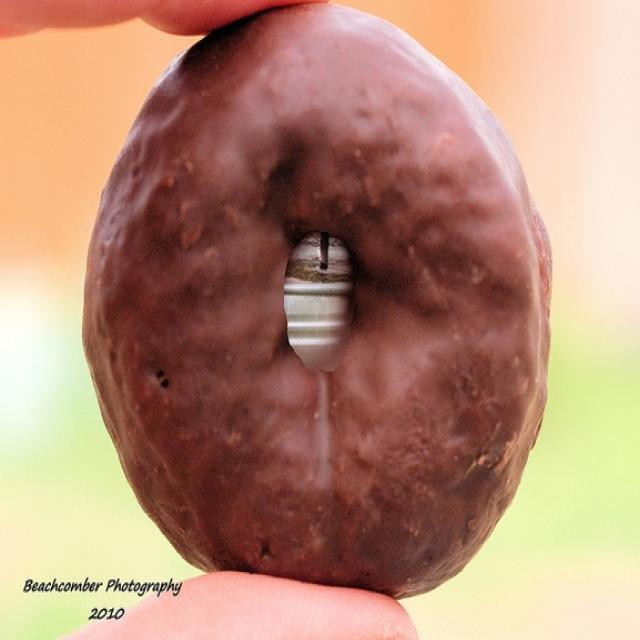炸货点心: (76, 15, 564, 585)
